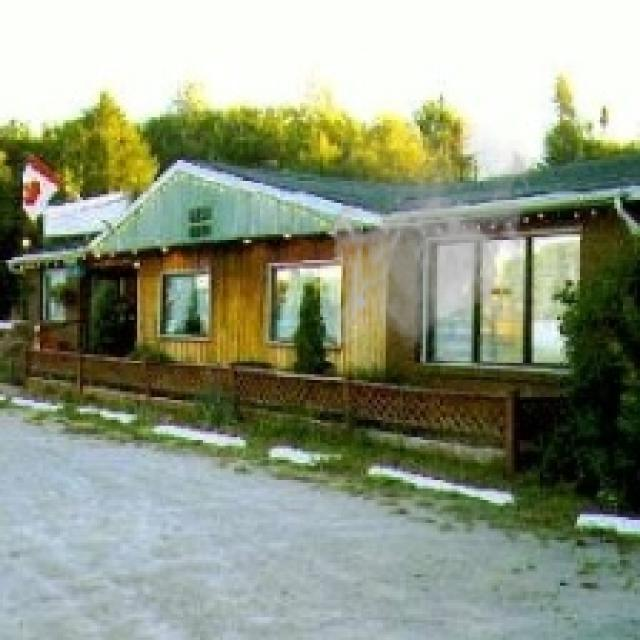Smoke: (326, 122, 538, 352)
